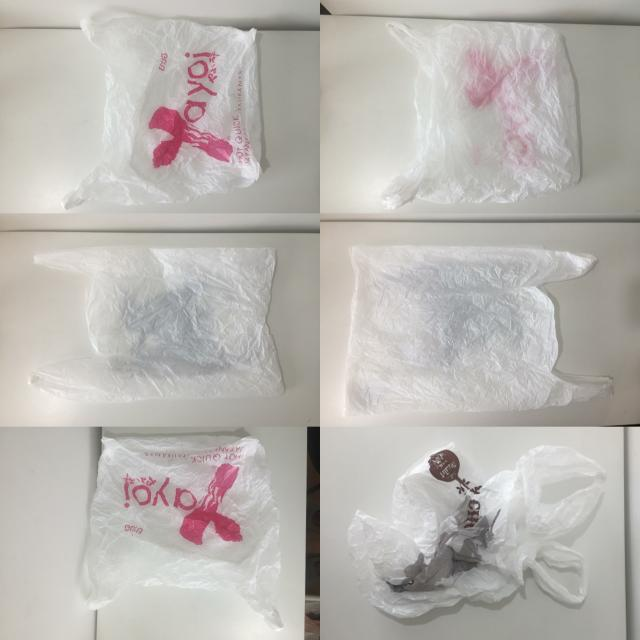Single-layer Plastic: (345, 245, 612, 415), (348, 442, 605, 618), (29, 246, 284, 402), (86, 434, 283, 628), (63, 16, 261, 209), (382, 22, 580, 208)
